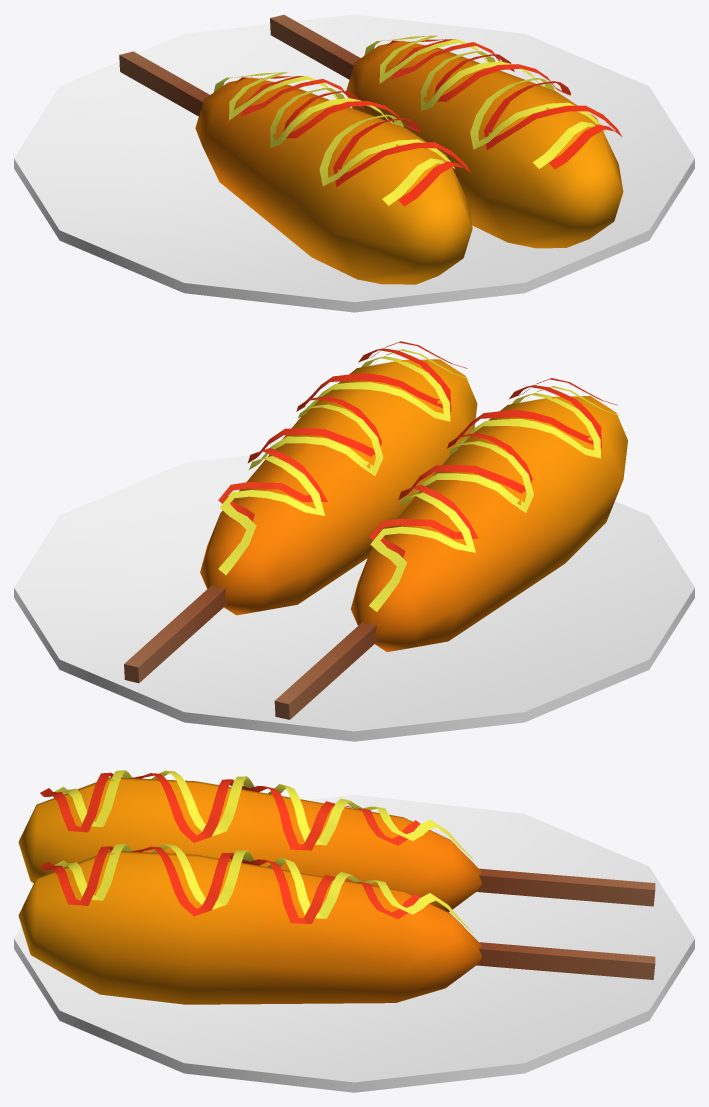
File: Hotdog.fbx
3 renders of one model, top to bottom at view 1: azimuth 30°, elevation 25°; view 2: azimuth 150°, elevation 25°; view 3: azimuth 270°, elevation 25°, orthographic.
Visible parts, largest first — view 1: Map02_Hotdog_LV2; view 2: Map02_Hotdog_LV2; view 3: Map02_Hotdog_LV2.
Part boxes in pixels (x1,y1,x2,y2): Map02_Hotdog_LV2: [14, 14, 694, 312]; Map02_Hotdog_LV2: [14, 341, 694, 741]; Map02_Hotdog_LV2: [14, 770, 694, 1092].
Size of the model in its own units: 151 by 43.66 by 151.
